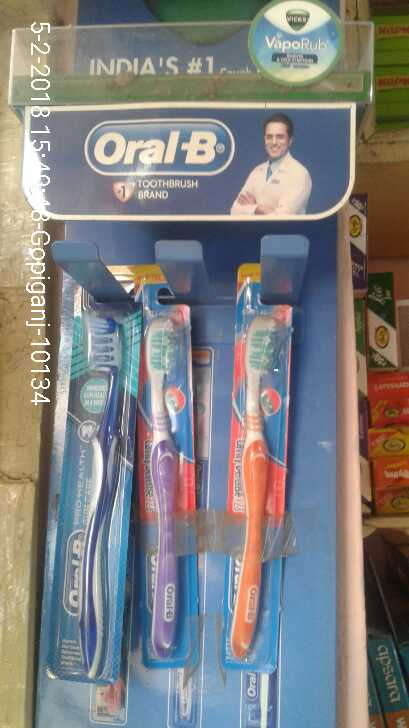oralb: (68, 274, 129, 683), (224, 259, 283, 670), (140, 269, 196, 670)
